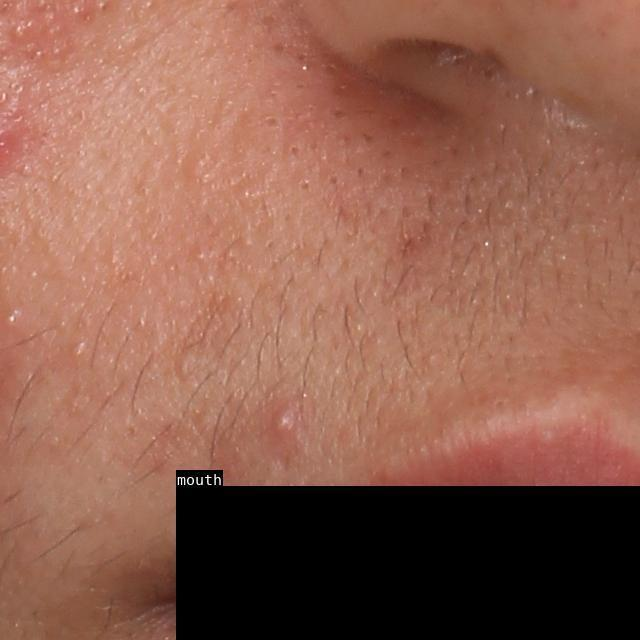comedo: (257, 115, 283, 134), (0, 310, 22, 331), (69, 342, 87, 363)
